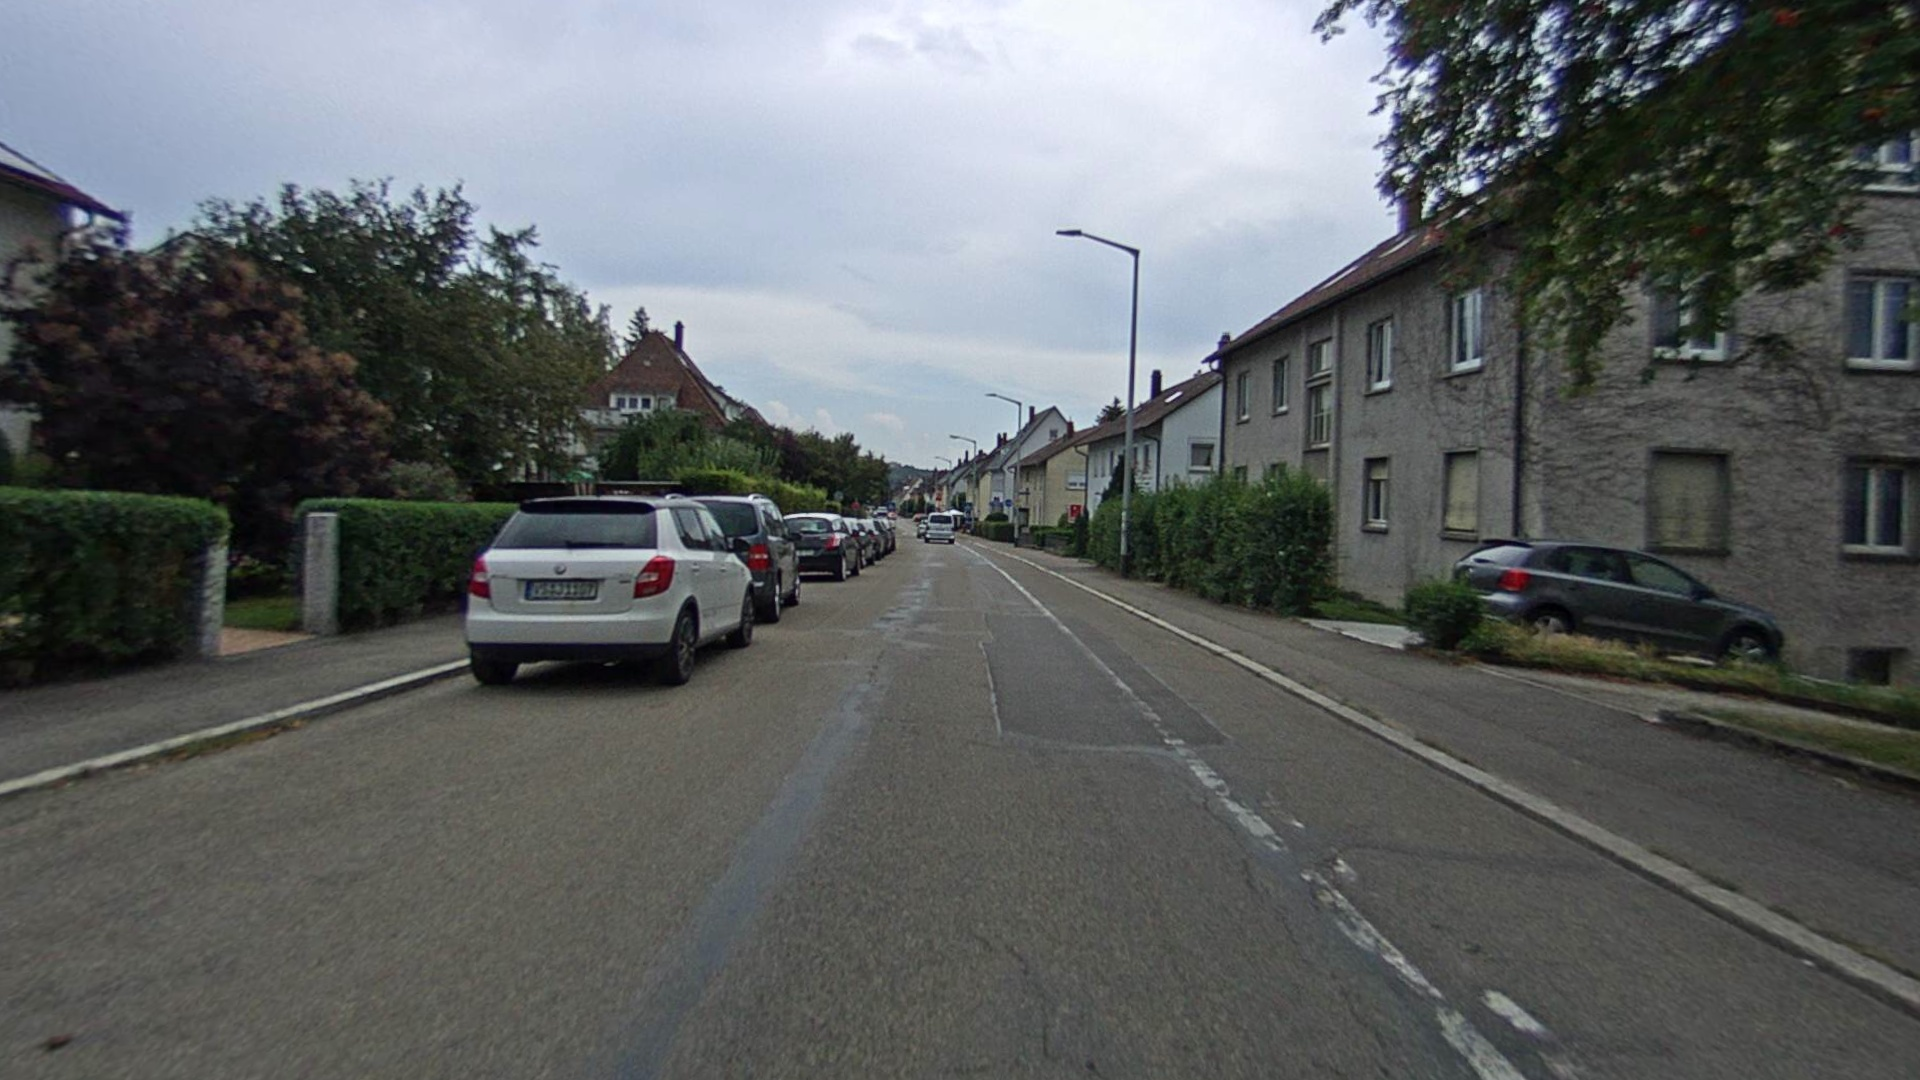car: (463, 491, 757, 702)
